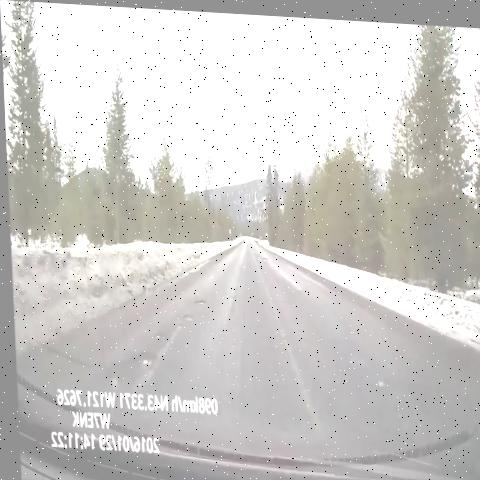pothole: (125, 337, 157, 379), (189, 287, 210, 312), (145, 327, 169, 348), (179, 304, 195, 333), (254, 247, 270, 260)
